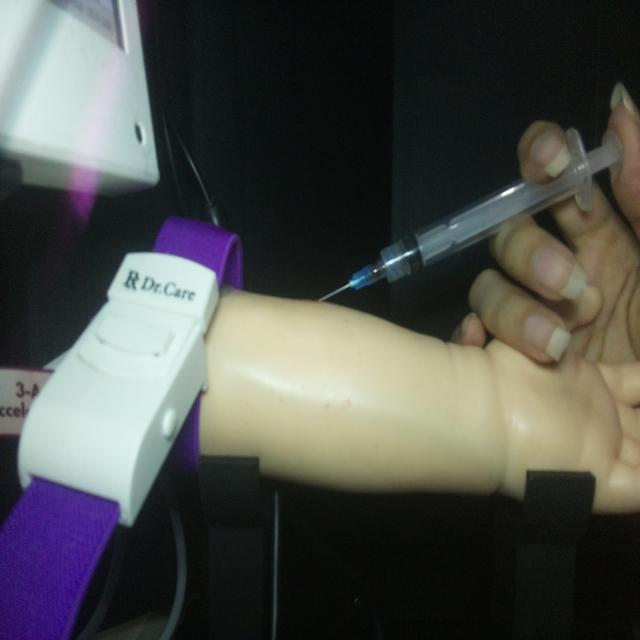17 degrees: (315, 120, 625, 306)
